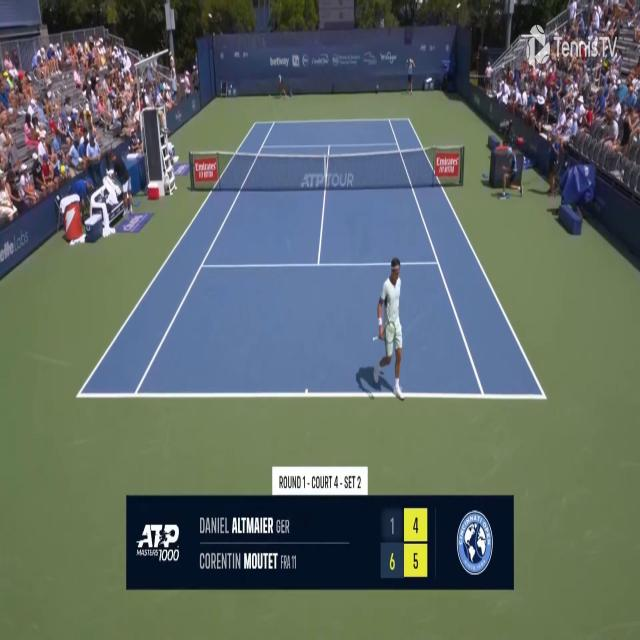tennis-player: (354, 252, 406, 403)
